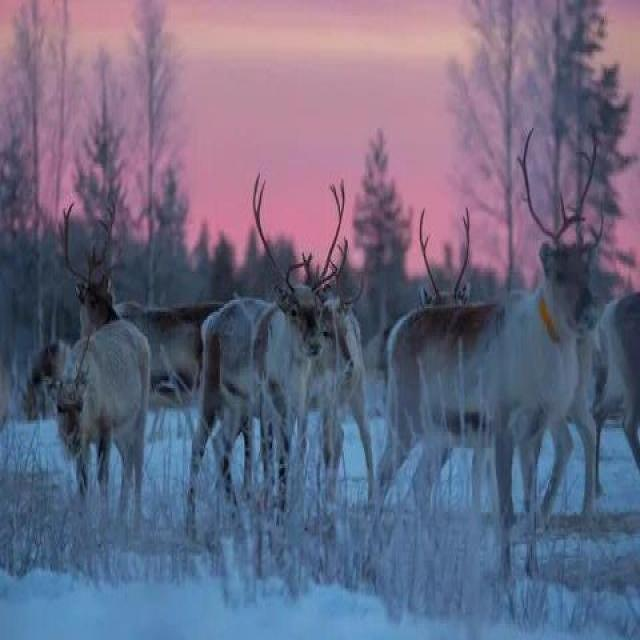deer: (428, 213, 628, 544), (189, 212, 403, 512), (40, 260, 188, 475)
